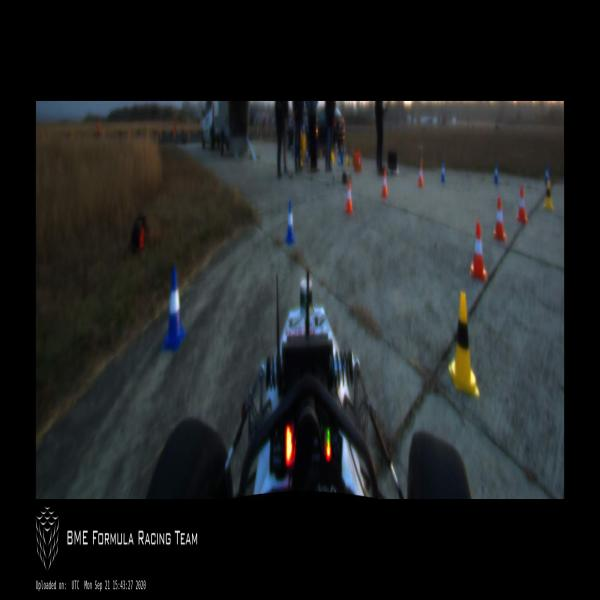blue_cone: (162, 268, 185, 350), (285, 200, 296, 244), (544, 166, 550, 186), (440, 160, 445, 183), (494, 164, 498, 184)
orange_cone: (470, 223, 486, 280), (493, 197, 506, 241), (516, 186, 528, 224), (344, 180, 353, 214), (382, 169, 389, 198), (417, 163, 424, 186)
yellow_cone: (449, 292, 479, 397), (544, 179, 553, 210)
